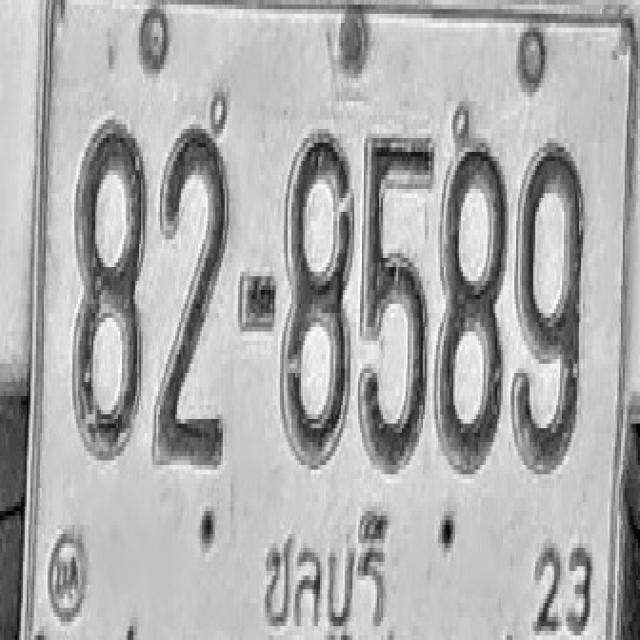2: (155, 117, 230, 463)
5: (360, 129, 434, 470)
8: (73, 118, 146, 454), (437, 132, 508, 468), (282, 127, 352, 458)
9: (513, 138, 584, 470)
Chonburi: (257, 508, 403, 640)
